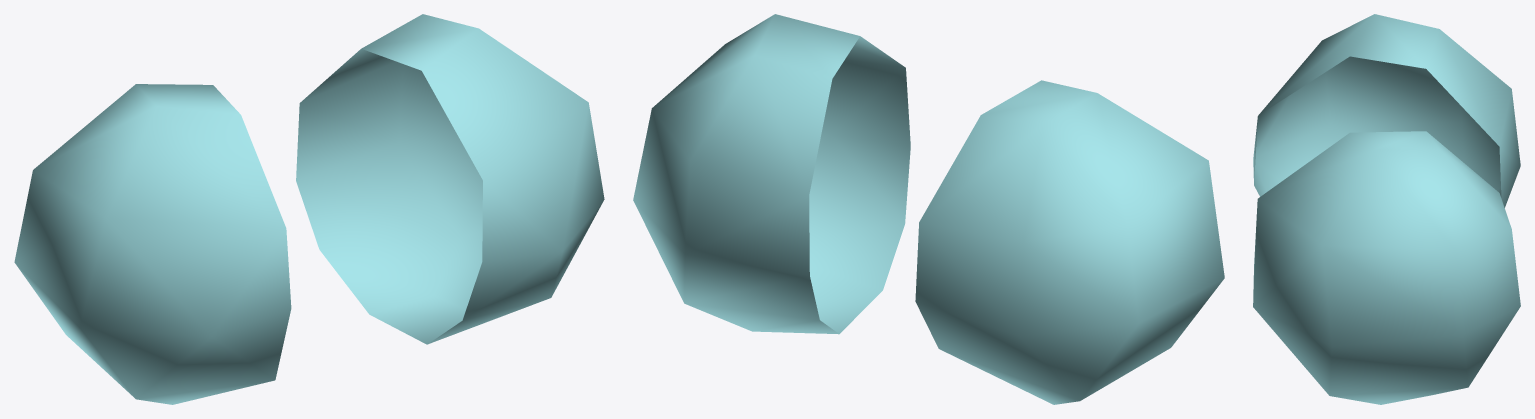
Rendered from Shrimp_Eye_Cherry_LOD2.fbx.
The picture shows the model from 3 angles, left to right: view 1: azimuth 30°, elevation 25°; view 2: azimuth 150°, elevation 25°; view 3: azimuth 270°, elevation 25°; orthographic projection. The views are drawn at different scales.
Parts seen in each view (by area): view 1: Ch.Eye_low_LOD2; view 2: Ch.Eye_low_LOD2; view 3: Ch.Eye_low_LOD2.
Part boxes in pixels (box(x1,y1,x2,y2)): Ch.Eye_low_LOD2: box(14, 14, 604, 404); Ch.Eye_low_LOD2: box(633, 14, 1224, 404); Ch.Eye_low_LOD2: box(1253, 14, 1520, 404).
Bounding box in the file's own units: 24.86 × 13.37 × 12.7.
